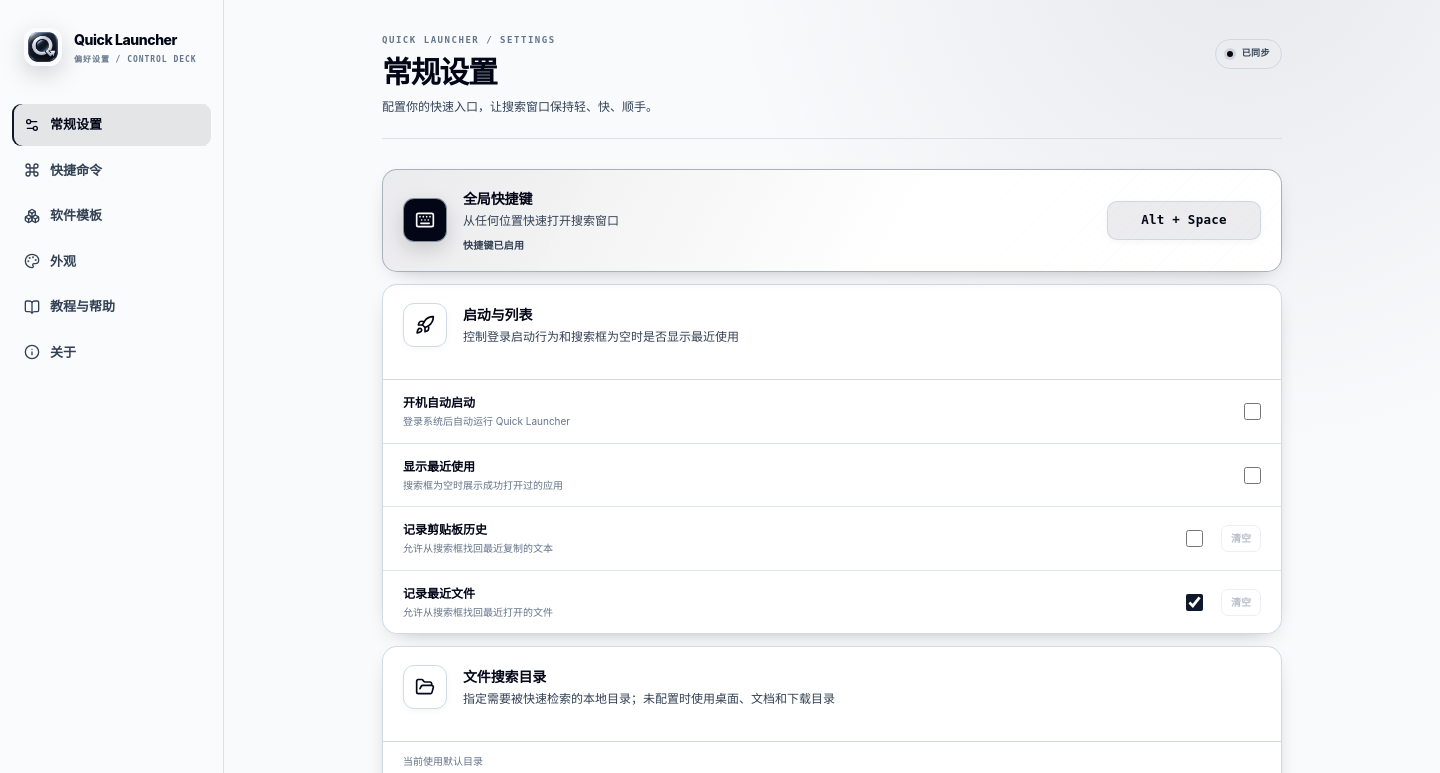
Test case: SettingsPage › records a shortcut from the window and uses the Windows modifier name
Click the button with aria-label "录入全局快捷键" at x=1184, y=220, box [1107,201,1261,240]
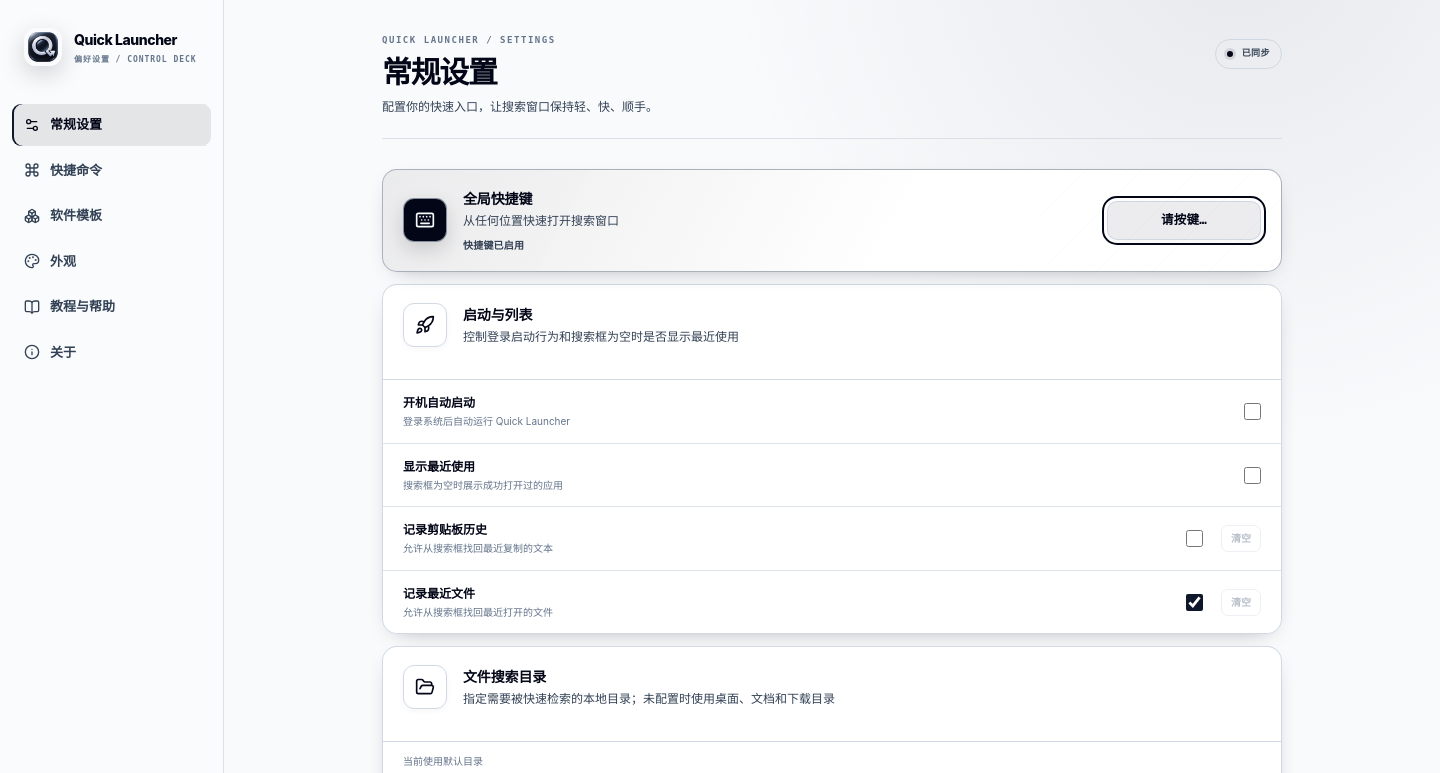
Check: the button with aria-label "录入全局快捷键" reads "请按键…", box [1107,201,1261,240]
Press k
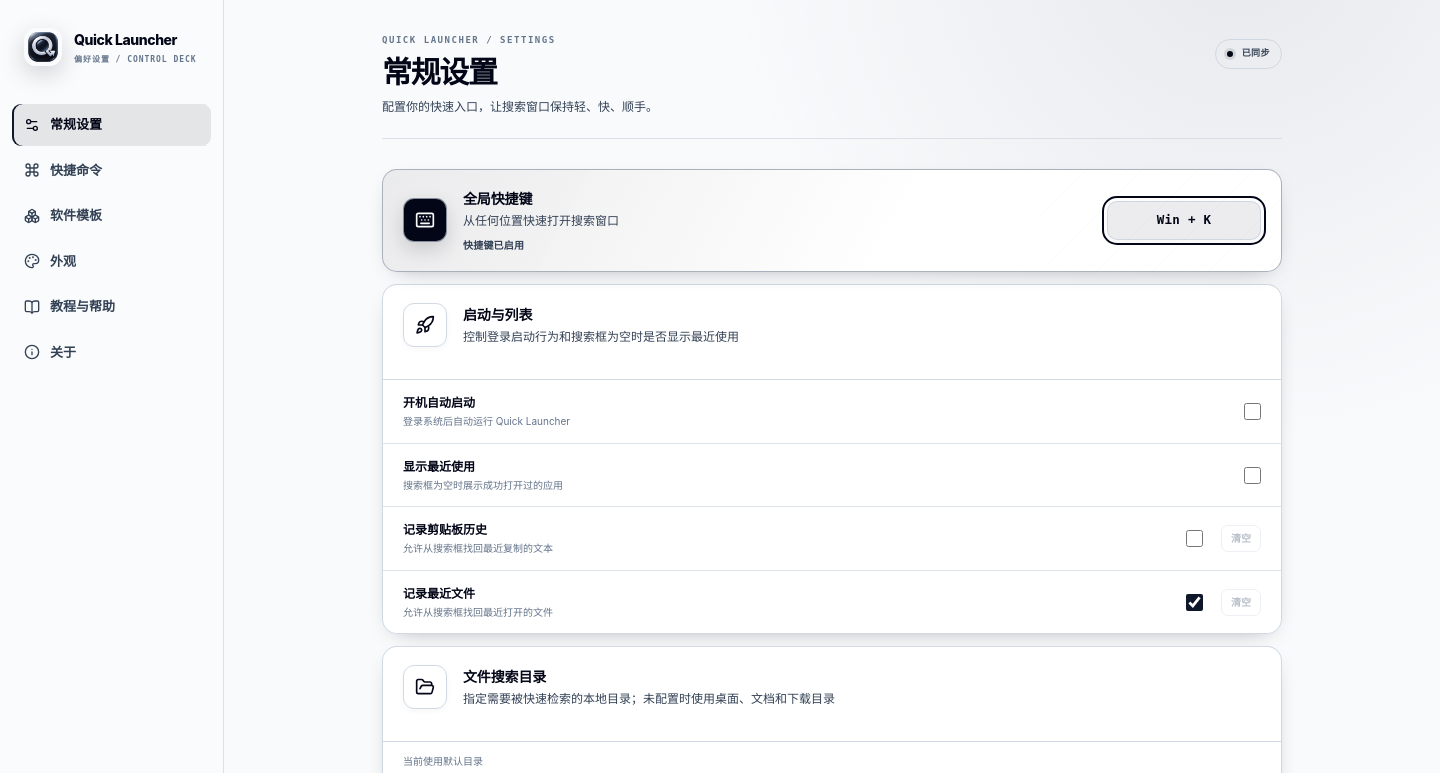
Check: the button with aria-label "录入全局快捷键" no longer shows "请按键…", box [1107,201,1261,240]
